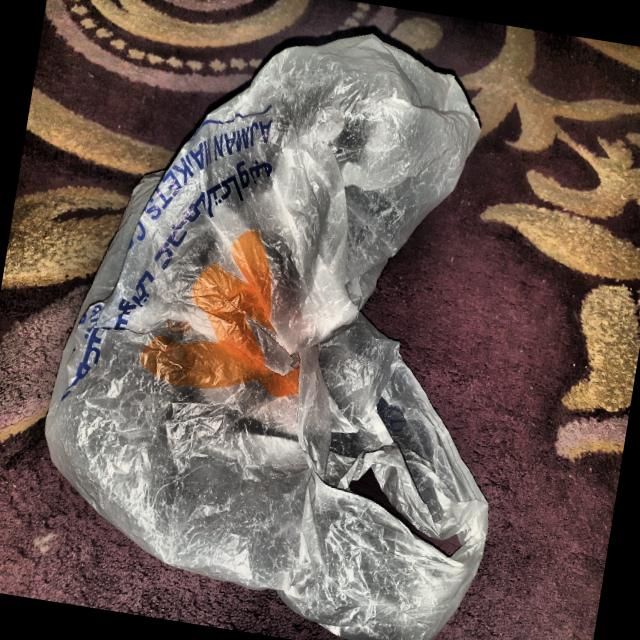plastic bag: (5, 0, 573, 640)
